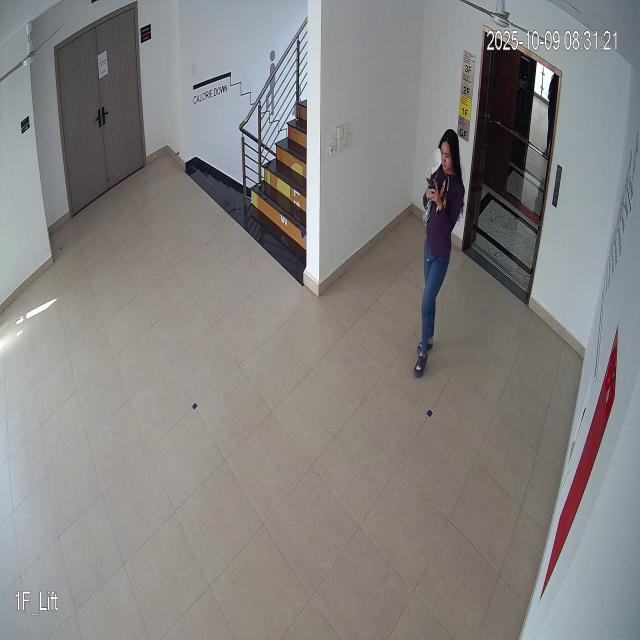face: (432, 125, 462, 181)
